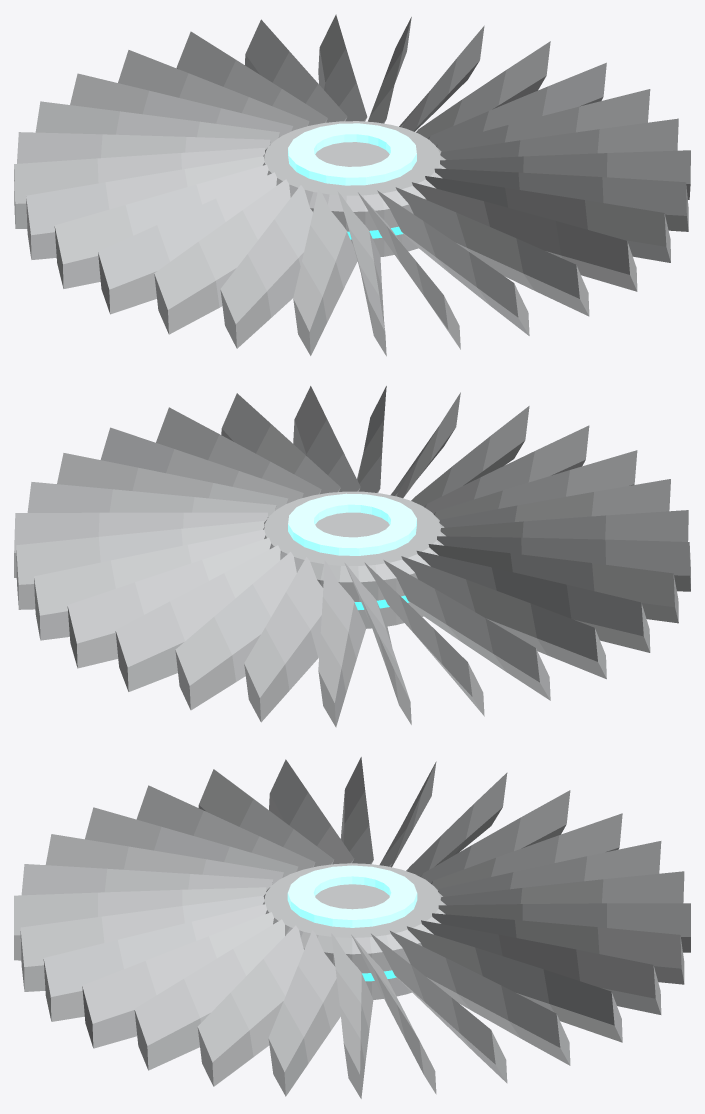
File: fanrotor_space.glb
3 renders of one model, top to bottom at view 1: azimuth 30°, elevation 25°; view 2: azimuth 150°, elevation 25°; view 3: azimuth 270°, elevation 25°, orthographic.
Visible parts, largest first — view 1: fanrotor_space; view 2: fanrotor_space; view 3: fanrotor_space.
Part boxes in pixels (box(x1,y1,x2,y2)): fanrotor_space: box(14, 14, 690, 356); fanrotor_space: box(14, 386, 690, 727); fanrotor_space: box(14, 757, 690, 1098).
Bounding box in the file's own units: 0.628 × 0.088 × 0.628.
